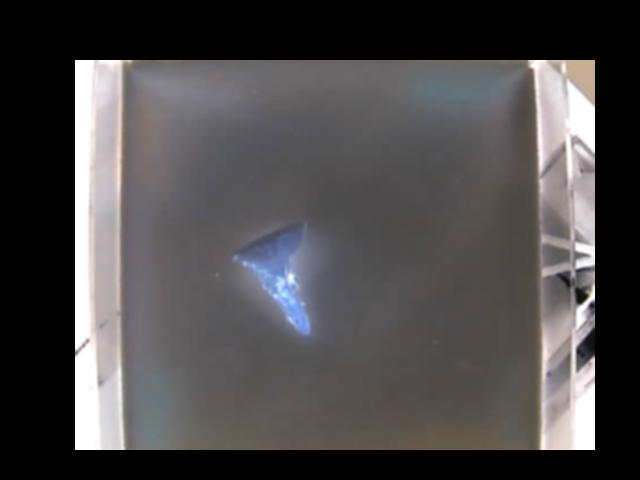Mooli: (232, 218, 310, 335)
